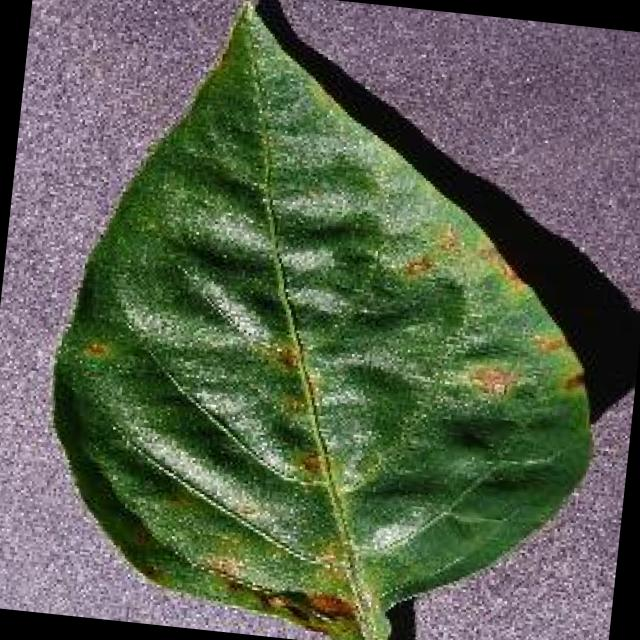Chilli_Bacterial_Spot: (23, 0, 639, 640), (380, 210, 608, 418), (283, 437, 335, 487), (462, 358, 522, 401), (299, 584, 357, 622), (197, 548, 248, 588), (72, 327, 118, 371), (427, 218, 466, 260), (397, 246, 438, 282), (525, 324, 568, 358), (272, 386, 312, 420), (267, 338, 303, 373), (254, 586, 294, 616), (78, 332, 112, 363), (294, 446, 326, 478), (556, 366, 589, 396)
